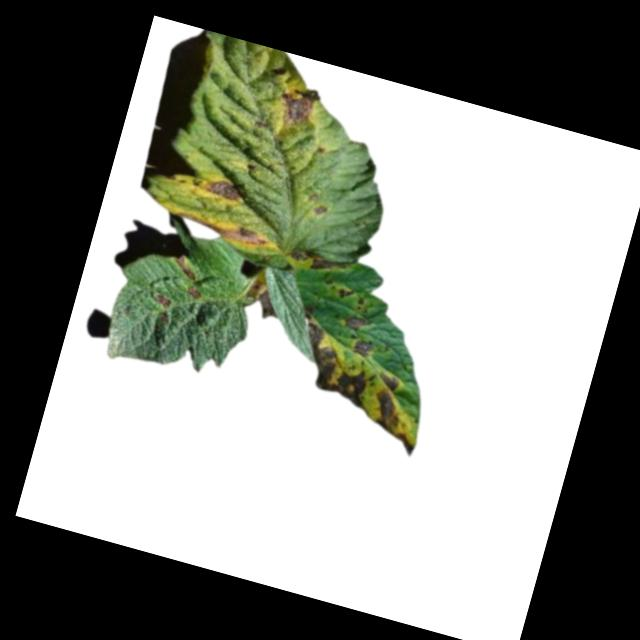Early_blight: (267, 311, 443, 460), (172, 208, 270, 253), (272, 79, 320, 133), (243, 278, 286, 326), (289, 244, 339, 279), (195, 171, 247, 203), (168, 254, 198, 282), (350, 335, 376, 360), (341, 311, 369, 333), (309, 199, 330, 219), (151, 292, 172, 310), (184, 285, 202, 303), (336, 285, 353, 302), (354, 296, 370, 314)
